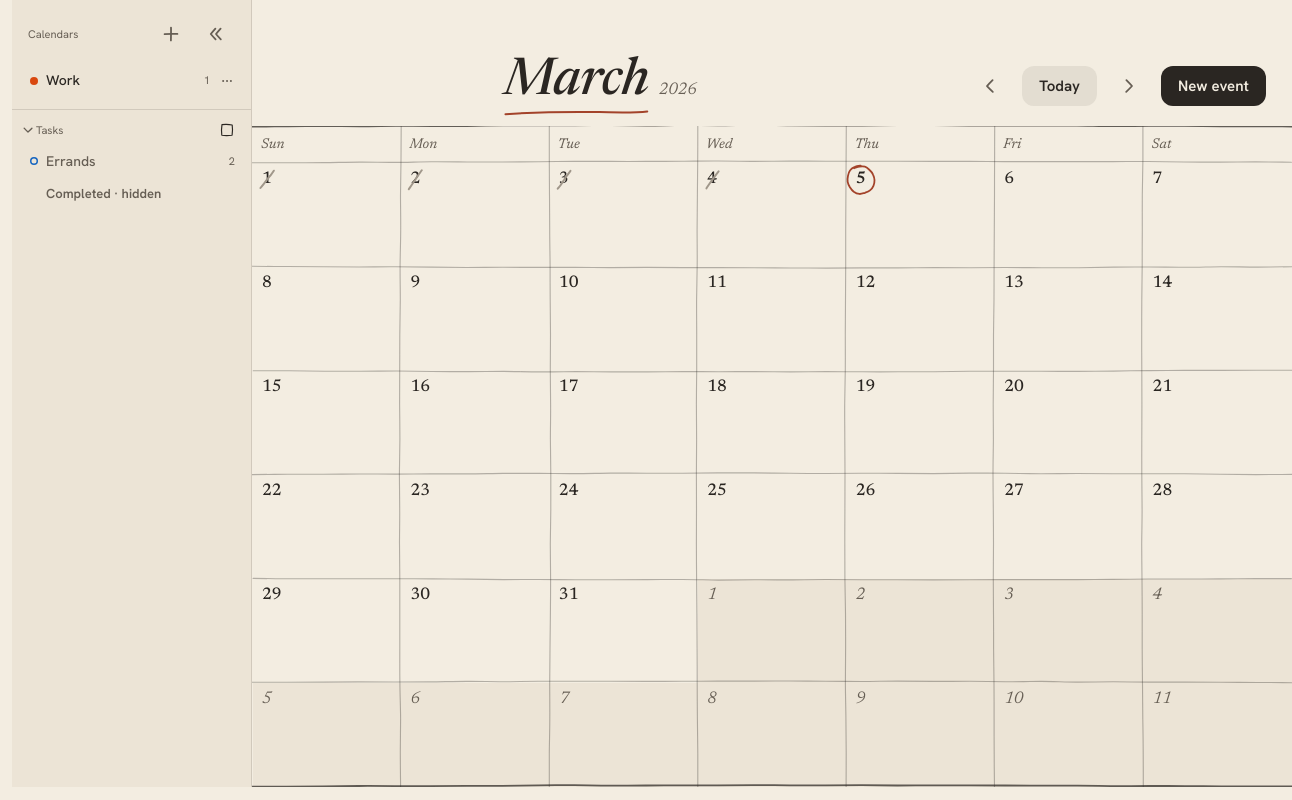
Test: <CalendarView> tasks sidebar › toggles a list onto the calendar, reading the opposite way from a hidden set
Click the checkbox labelled "Errands 2": (71, 160) top-left (30, 152), bottom-right (235, 170)
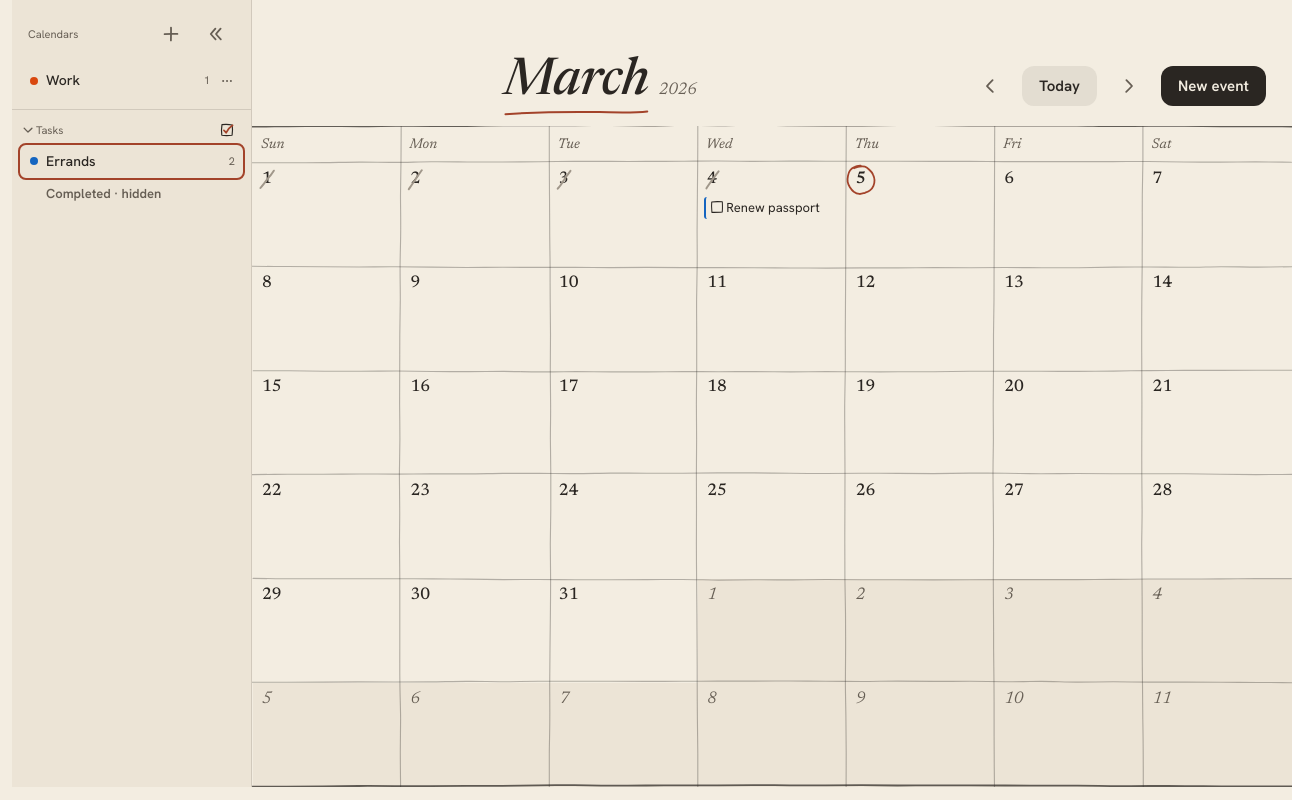
Expected: the number of buttons with class "cal-task" is 1, top-left (704, 197), bottom-right (840, 218)
Click the checkbox labelled "Errands 2": (71, 160) top-left (30, 152), bottom-right (235, 170)
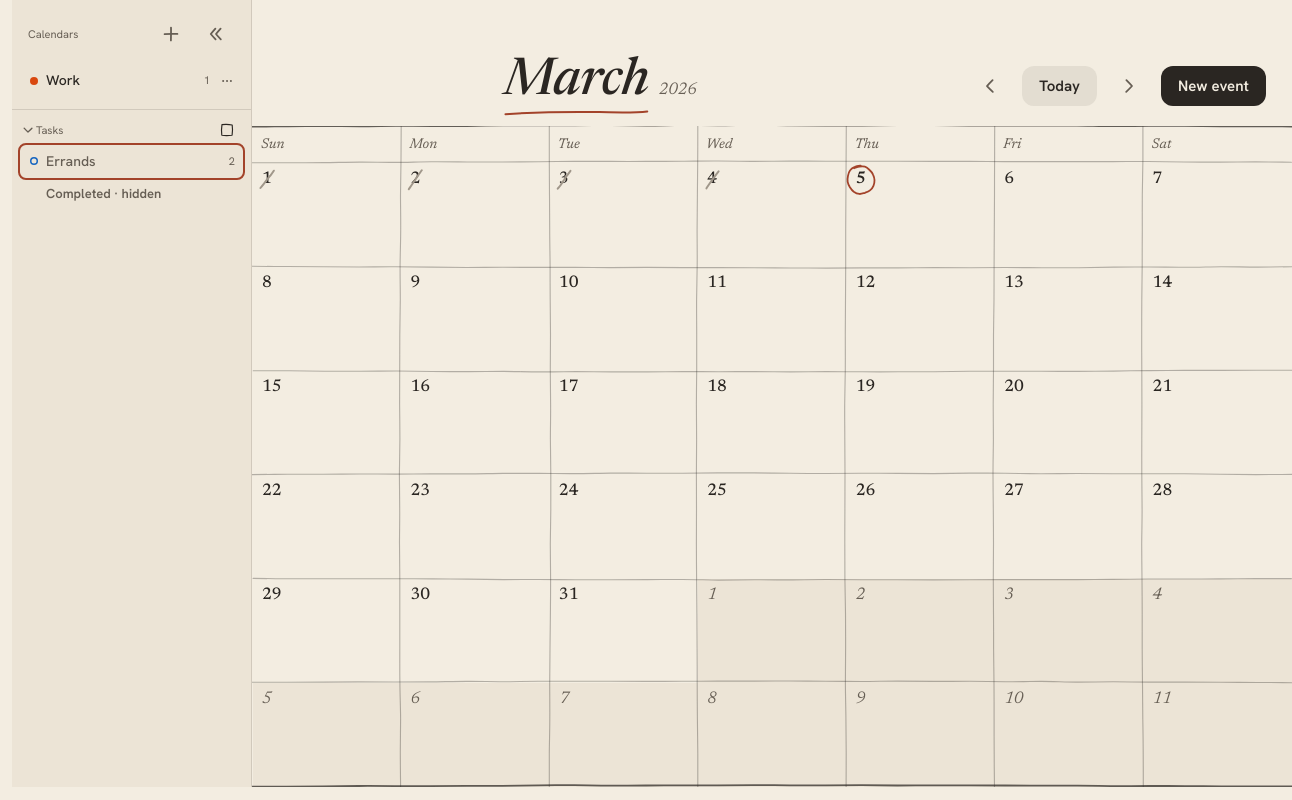
Expected: no buttons with class "cal-task" are shown
